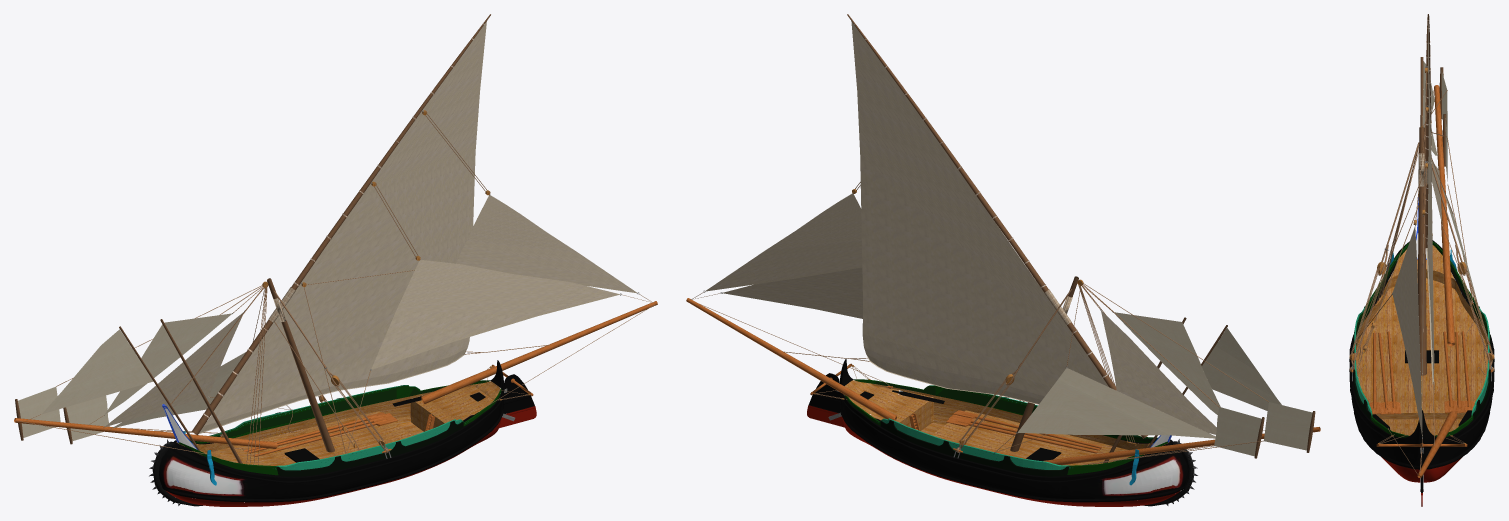
File: muleta.glb
3 renders of one model, left to right at view 1: azimuth 30°, elevation 25°; view 2: azimuth 150°, elevation 25°; view 3: azimuth 270°, elevation 25°, orthographic. The views are drawn at different scales.
Parts seen in each view (by area): view 1: Vela_principal, vela_tras1, casco.002, vela_tras2, casco.003, borda, Vela_frente2, vela_avançada, vela_frente_cima, Mastro_vela_maior, mastro_rede_tras, casco (+8 smaller); view 2: Vela_principal, casco.002, vela_frente1, vela_tras2, casco.003, Vela_frente2, borda, vela_tras1, vela_frente_cima, vela_avançada, Mastro_vela_maior, mini-vela_rede-frente2 (+7 smaller); view 3: casco.003, casco.002, vela_tras1, Mastro_rede_frente, borda, mastro_principal, Vela_principal, casco, Mastro_vela_maior, casco.001, corda_lado_casco2, mastro_rede_tras (+20 smaller).
Part boxes in pixels (bbox=[...]): Vela_principal: bbox=[198, 21, 486, 434]; vela_tras1: bbox=[371, 260, 620, 369]; casco.002: bbox=[159, 360, 504, 502]; vela_tras2: bbox=[456, 195, 636, 293]; casco.003: bbox=[176, 381, 500, 465]; borda: bbox=[178, 380, 501, 475]; Vela_frente2: bbox=[104, 312, 243, 427]; vela_avançada: bbox=[42, 329, 153, 414]; vela_frente_cima: bbox=[104, 313, 231, 414]; Mastro_vela_maior: bbox=[191, 14, 490, 435]; mastro_rede_tras: bbox=[421, 301, 657, 403]; casco: bbox=[197, 384, 472, 452]; Vela_principal: bbox=[851, 21, 1141, 436]; casco.002: bbox=[840, 359, 1187, 502]; vela_frente1: bbox=[1018, 368, 1215, 438]; vela_tras2: bbox=[705, 193, 862, 291]; casco.003: bbox=[844, 380, 1170, 465]; Vela_frente2: bbox=[1101, 311, 1216, 434]; borda: bbox=[844, 379, 1167, 474]; vela_tras1: bbox=[722, 267, 862, 318]; vela_frente_cima: bbox=[1113, 312, 1220, 415]; vela_avançada: bbox=[1202, 328, 1281, 410]; Mastro_vela_maior: bbox=[847, 14, 1147, 438]; mini-vela_rede-frente2: bbox=[1264, 402, 1312, 450]; casco.003: bbox=[1356, 245, 1487, 435]; casco.002: bbox=[1349, 240, 1494, 469]; vela_tras1: bbox=[1392, 226, 1422, 436]; Mastro_rede_frente: bbox=[1434, 85, 1454, 346]; borda: bbox=[1354, 241, 1489, 437]; mastro_principal: bbox=[1418, 127, 1426, 375]; Vela_principal: bbox=[1426, 22, 1434, 384]; casco: bbox=[1356, 269, 1487, 414]; Mastro_vela_maior: bbox=[1425, 14, 1431, 247]; casco.001: bbox=[1381, 457, 1462, 482]; corda_lado_casco2: bbox=[1378, 142, 1465, 275]; mastro_rede_tras: bbox=[1417, 411, 1457, 477].
Bounding box in the file's own units: 2526 × 1623 × 439.
18 materials, 16 textured.
